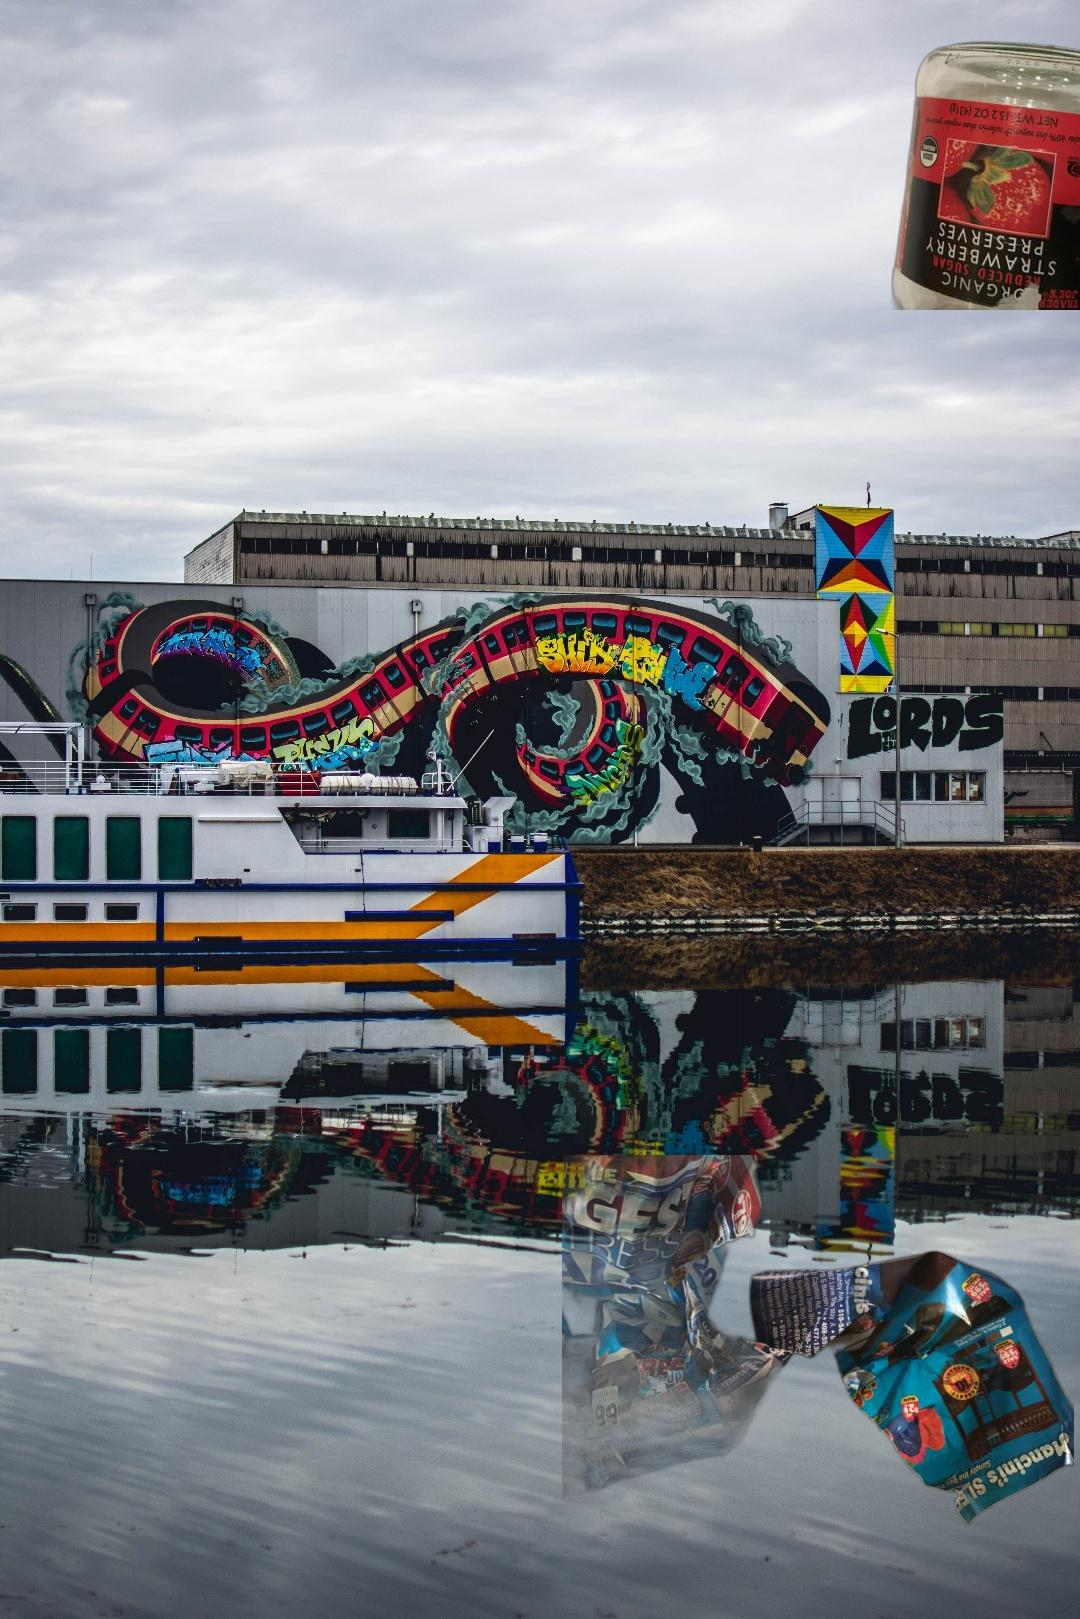glass: (888, 40, 1080, 310)
paper: (562, 1155, 1074, 1539)
